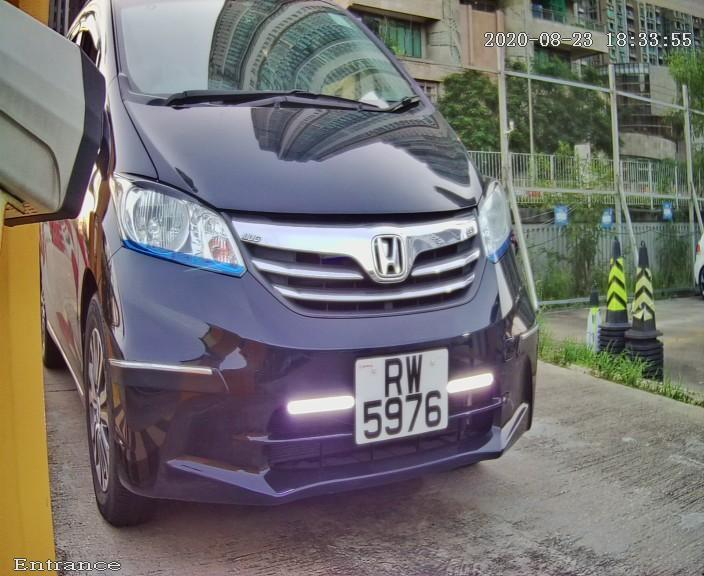Car: (23, 3, 598, 538)
License Plate: (328, 323, 483, 468)
